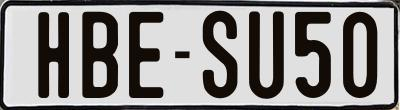0: (340, 10, 378, 101)
5: (294, 12, 331, 104)
B: (79, 10, 116, 98)
E: (129, 12, 164, 101)
H: (35, 12, 71, 101)
S: (203, 11, 242, 101)
U: (249, 10, 287, 103)
